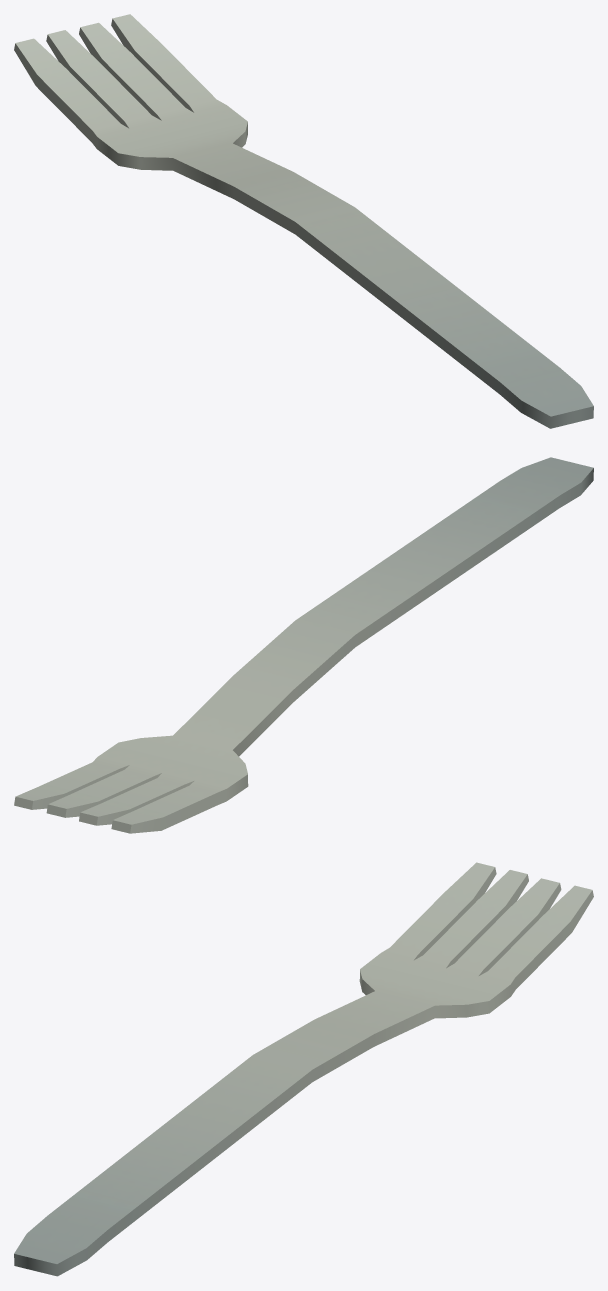
The model's file is prop_tableware02.fbx.
The picture shows the model from 3 angles, top to bottom: view 1: azimuth 30°, elevation 25°; view 2: azimuth 150°, elevation 25°; view 3: azimuth 330°, elevation 25°; orthographic projection.
Visible parts, largest first — view 1: prop_tableware02; view 2: prop_tableware02; view 3: prop_tableware02.
Part boxes in pixels (<box>): prop_tableware02: <box>14,14,593,428</box>; prop_tableware02: <box>14,457,593,833</box>; prop_tableware02: <box>14,862,593,1276</box>.
Size of the model in its own units: 0.0271 by 0.00819 by 0.1811.
